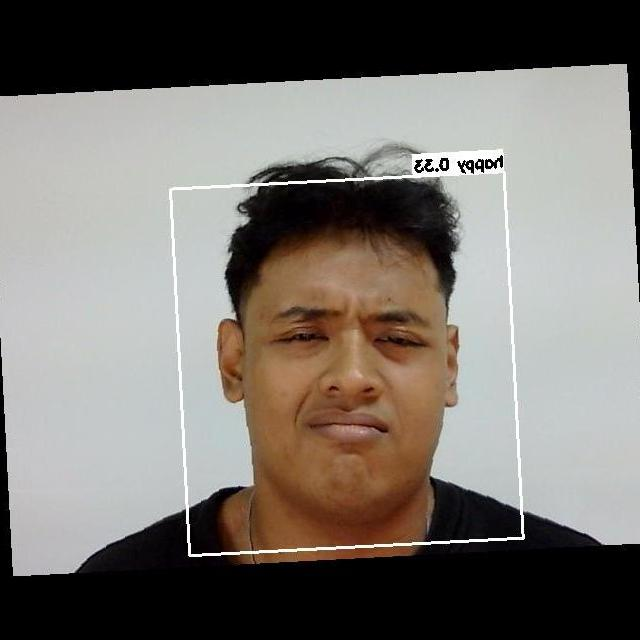Disgust: (252, 288, 447, 488)
